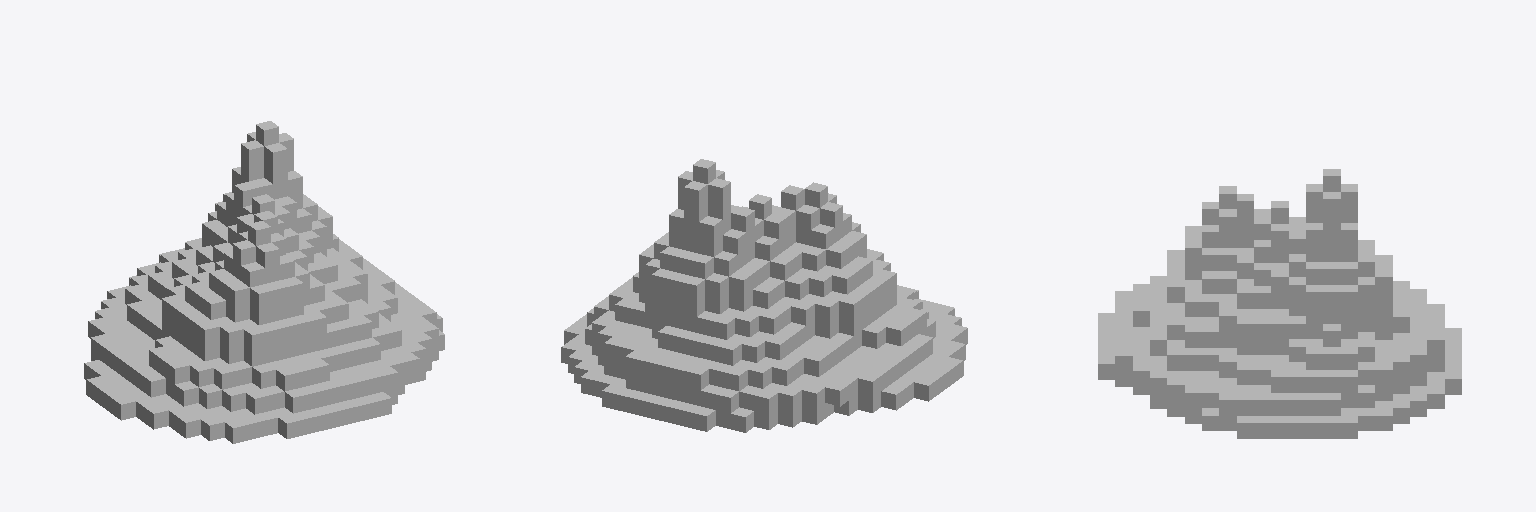
Rendered from mountain.obj.
The picture shows the model from 3 angles: view 1: azimuth 30°, elevation 25°; view 2: azimuth 150°, elevation 25°; view 3: azimuth 270°, elevation 25°; orthographic projection.
Size of the model in its own units: 22 by 13 by 21.